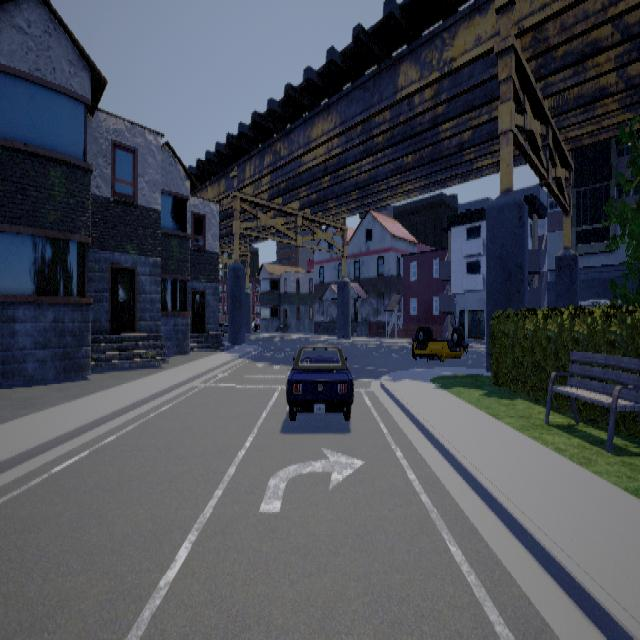vehicle: (285, 342, 353, 419), (411, 325, 468, 360)
